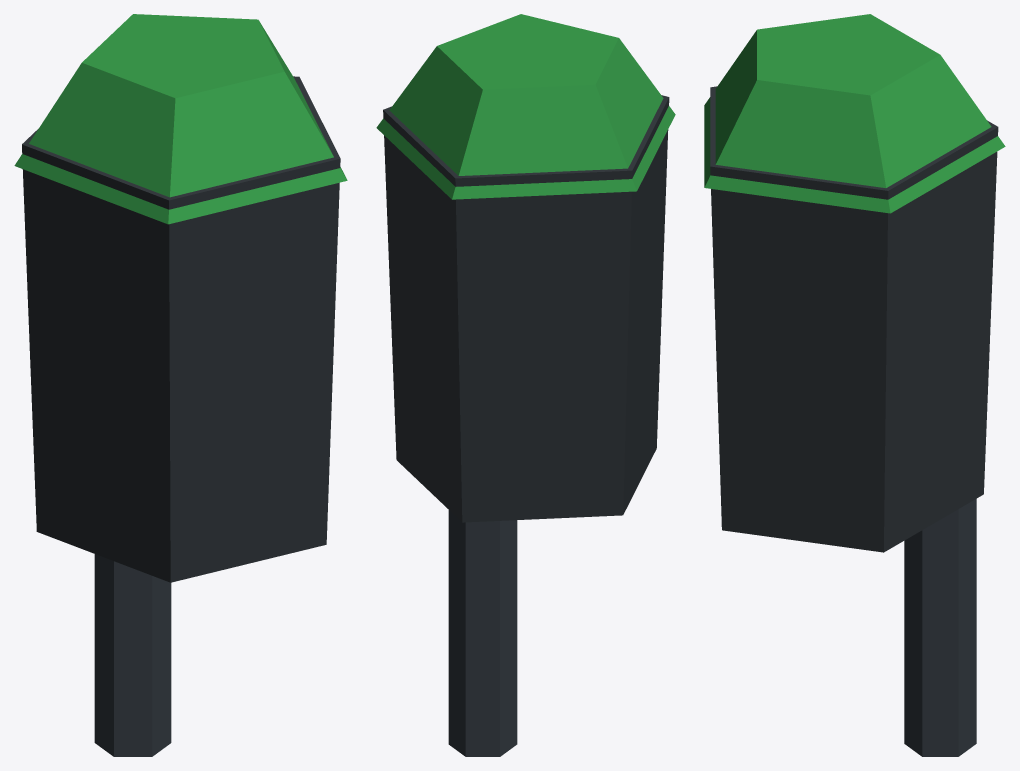
The model's file is waste-bin-lod1.glb.
The picture shows the model from 3 angles, left to right: view 1: azimuth 30°, elevation 25°; view 2: azimuth 150°, elevation 25°; view 3: azimuth 270°, elevation 25°; orthographic projection. The views are drawn at different scales.
Visible parts, largest first — view 1: waste-bin-lod1; view 2: waste-bin-lod1; view 3: waste-bin-lod1.
Part boxes in pixels (box(x1,y1,x2,y2)): waste-bin-lod1: box(14, 14, 347, 756); waste-bin-lod1: box(376, 14, 675, 756); waste-bin-lod1: box(704, 14, 1005, 756).
Size of the model in its own units: 0.4375 by 1.05 by 0.4161.
Materials: 1 (1 with a texture image).
